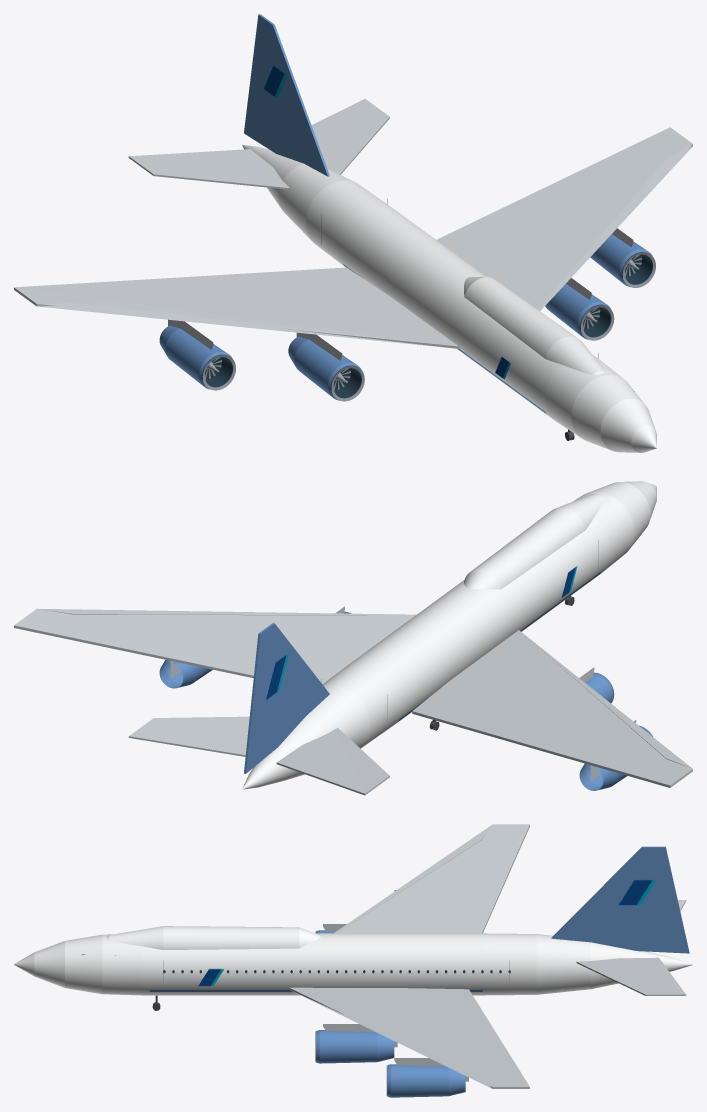
The model's file is b747-ANA-v4.gltf.
3 views of the same model, one above another, from view 1: azimuth 30°, elevation 25°; view 2: azimuth 150°, elevation 25°; view 3: azimuth 270°, elevation 25° (orthographic). The views are drawn at different scales.
Parts seen in each view (by area): view 1: object 1; view 2: object 1; view 3: object 1.
Boxes of the visible parts, x1,y1,x2,y2 form: object 1: [14, 14, 692, 452]; object 1: [14, 481, 692, 795]; object 1: [14, 824, 692, 1097].
Bounding box in the file's own units: 65 × 19.04 × 71.
8 materials, 1 textured.
